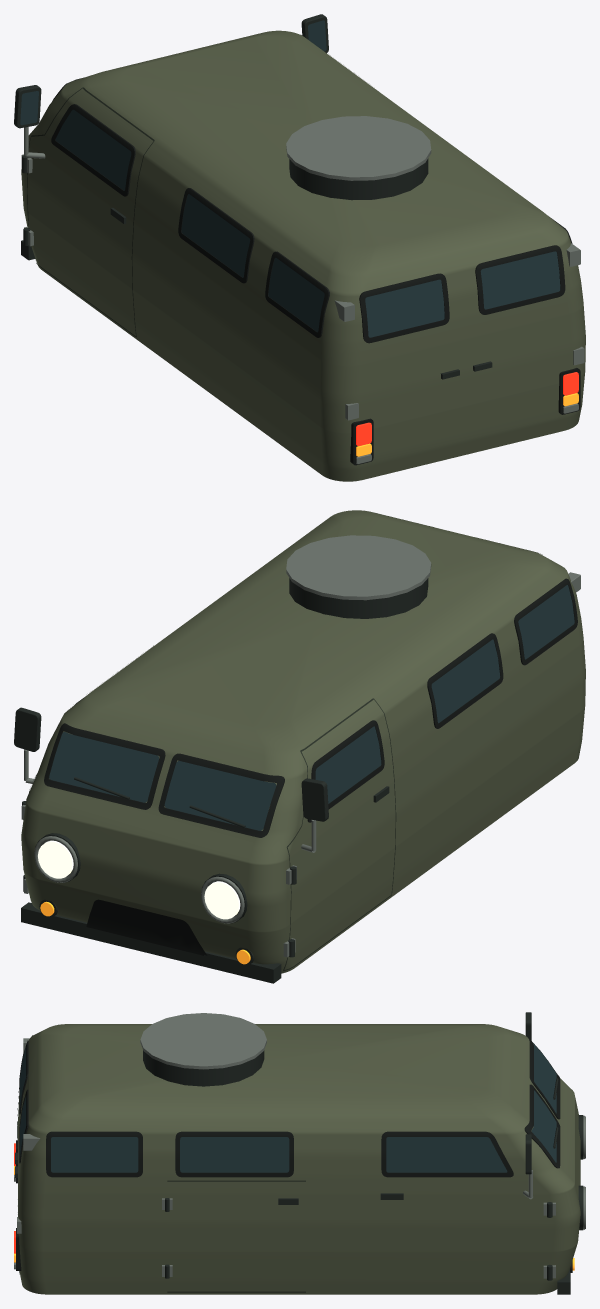
The picture shows the model from 3 angles, top to bottom: view 1: azimuth 30°, elevation 25°; view 2: azimuth 150°, elevation 25°; view 3: azimuth 270°, elevation 25°; orthographic projection. The views are drawn at different scales.
Visible parts, largest first — view 1: B01_surface_00, B01_surface_05, B01_surface_06, B01_surface_04, B01_surface_02, B01_surface_03, B01_surface_09, B01_surface_10; view 2: B01_surface_00, B01_surface_05, B01_surface_04, B01_surface_02, B01_surface_06, B01_surface_07, B01_surface_09; view 3: B01_surface_00, B01_surface_05, B01_surface_04, B01_surface_06, B01_surface_02, B01_surface_09.
Part boxes in pixels (x1=…): B01_surface_00: x1=21, y1=30, x2=585, y2=481; B01_surface_05: x1=55, y1=109, x2=560, y2=337; B01_surface_06: x1=21, y1=116, x2=584, y2=464; B01_surface_04: x1=51, y1=77, x2=580, y2=465; B01_surface_02: x1=14, y1=14, x2=492, y2=379; B01_surface_03: x1=20, y1=20, x2=326, y2=125; B01_surface_09: x1=27, y1=35, x2=349, y2=337; B01_surface_10: x1=356, y1=372, x2=578, y2=446; B01_surface_00: x1=21, y1=510, x2=585, y2=973; B01_surface_05: x1=49, y1=585, x2=574, y2=830; B01_surface_04: x1=44, y1=578, x2=577, y2=955; B01_surface_02: x1=14, y1=578, x2=428, y2=983; B01_surface_06: x1=21, y1=535, x2=580, y2=957; B01_surface_07: x1=38, y1=840, x2=240, y2=919; B01_surface_09: x1=29, y1=513, x2=542, y2=970; B01_surface_00: x1=18, y1=1024, x2=580, y2=1294; B01_surface_05: x1=20, y1=1042, x2=556, y2=1172; B01_surface_04: x1=16, y1=1035, x2=560, y2=1270; B01_surface_06: x1=14, y1=1013, x2=585, y2=1278; B01_surface_02: x1=15, y1=1012, x2=583, y2=1294; B01_surface_09: x1=17, y1=1035, x2=305, y2=1292.
Size of the model in its own units: 2.32 by 1.65 by 4.25.
